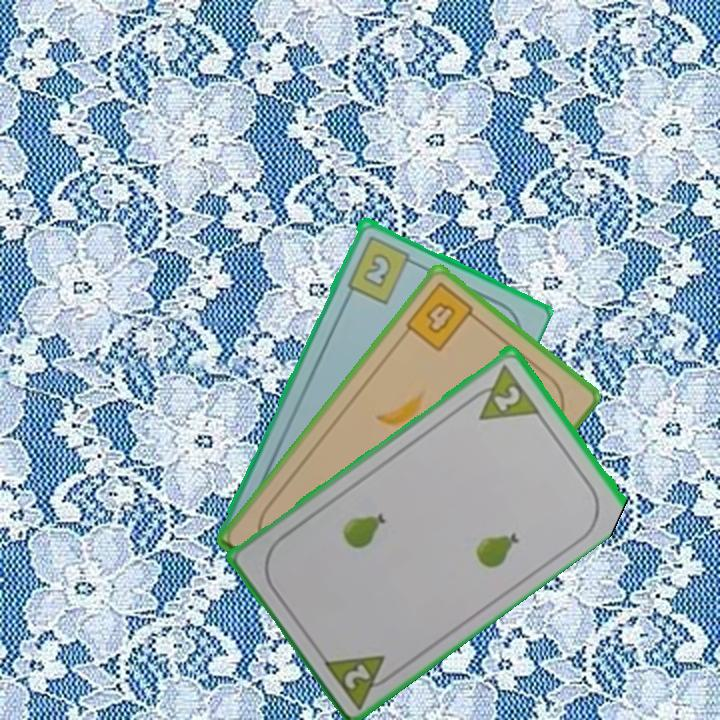2b: (343, 231, 420, 306)
2p: (463, 359, 542, 423), (319, 650, 401, 710)
4b: (402, 278, 483, 354)
